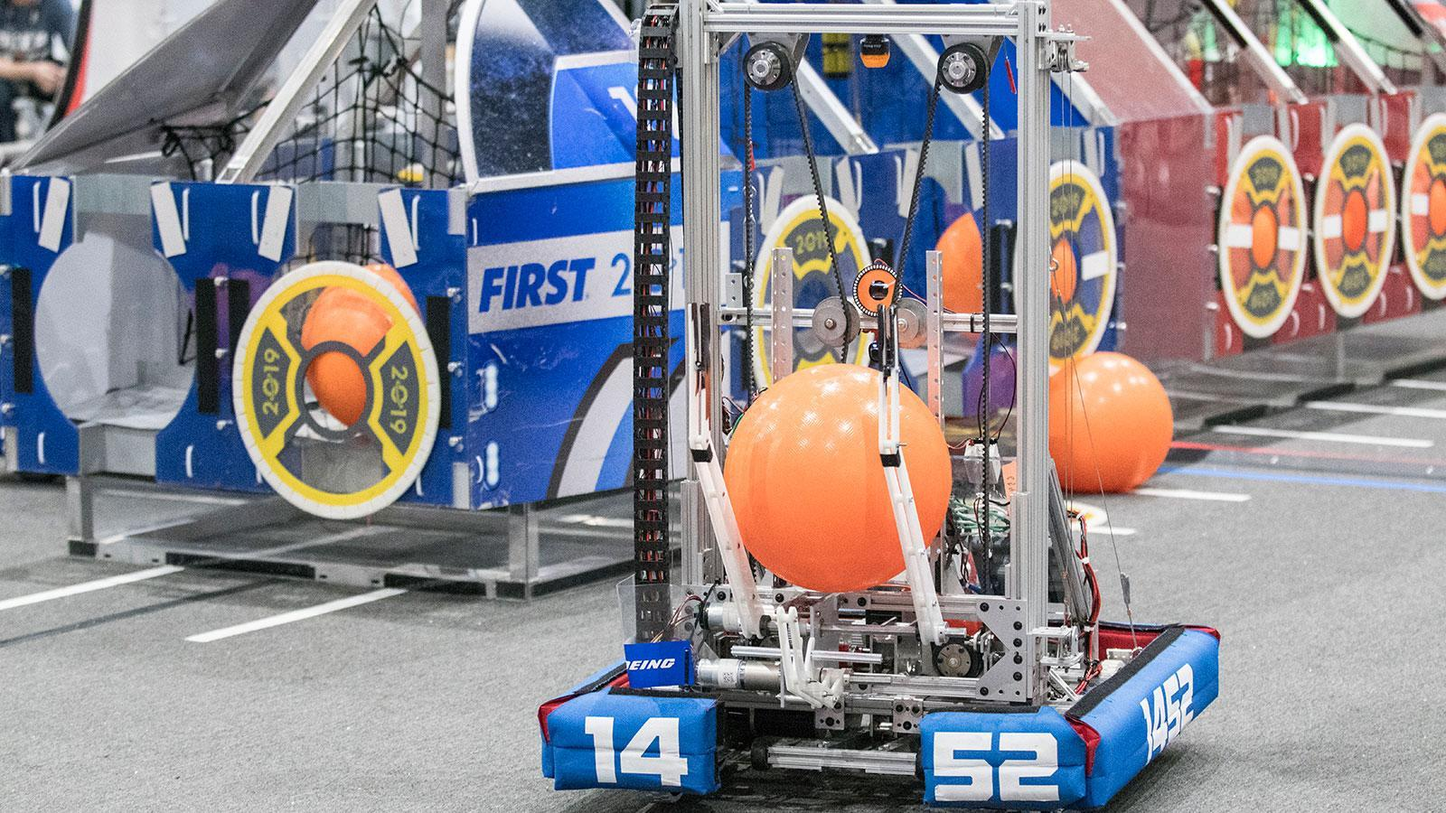robot: (532, 0, 1233, 813)
